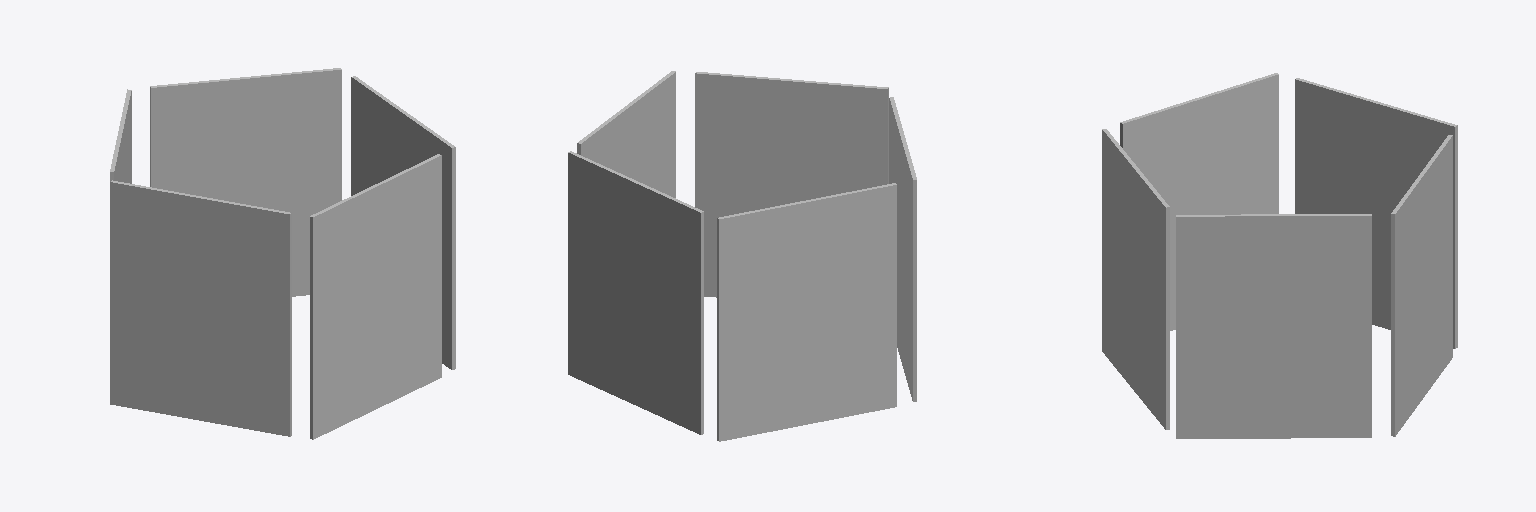
File: Glass.obj
The picture shows the model from 3 angles: view 1: azimuth 30°, elevation 25°; view 2: azimuth 150°, elevation 25°; view 3: azimuth 270°, elevation 25°; orthographic projection.
Parts seen in each view (by area): view 1: 003_Box, 004_Box, 001_Box, 000_Box, 002_Box; view 2: 002_Box, 001_Box, 004_Box, 000_Box, 003_Box; view 3: 000_Box, 002_Box, 003_Box, 004_Box, 001_Box.
Boxes of the visible parts, x1=… form: 003_Box: x1=110, y1=180, x2=291, y2=436; 004_Box: x1=310, y1=154, x2=441, y2=439; 001_Box: x1=150, y1=68, x2=341, y2=296; 000_Box: x1=351, y1=76, x2=455, y2=369; 002_Box: x1=110, y1=89, x2=131, y2=183; 002_Box: x1=717, y1=183, x2=896, y2=441; 001_Box: x1=568, y1=151, x2=703, y2=434; 004_Box: x1=695, y1=72, x2=888, y2=297; 000_Box: x1=577, y1=71, x2=675, y2=197; 003_Box: x1=889, y1=97, x2=916, y2=401; 000_Box: x1=1176, y1=214, x2=1371, y2=438; 002_Box: x1=1295, y1=78, x2=1457, y2=348; 003_Box: x1=1120, y1=73, x2=1278, y2=330; 004_Box: x1=1102, y1=129, x2=1169, y2=429; 001_Box: x1=1391, y1=135, x2=1452, y2=436.
Size of the model in its own units: 181 by 130 by 189.